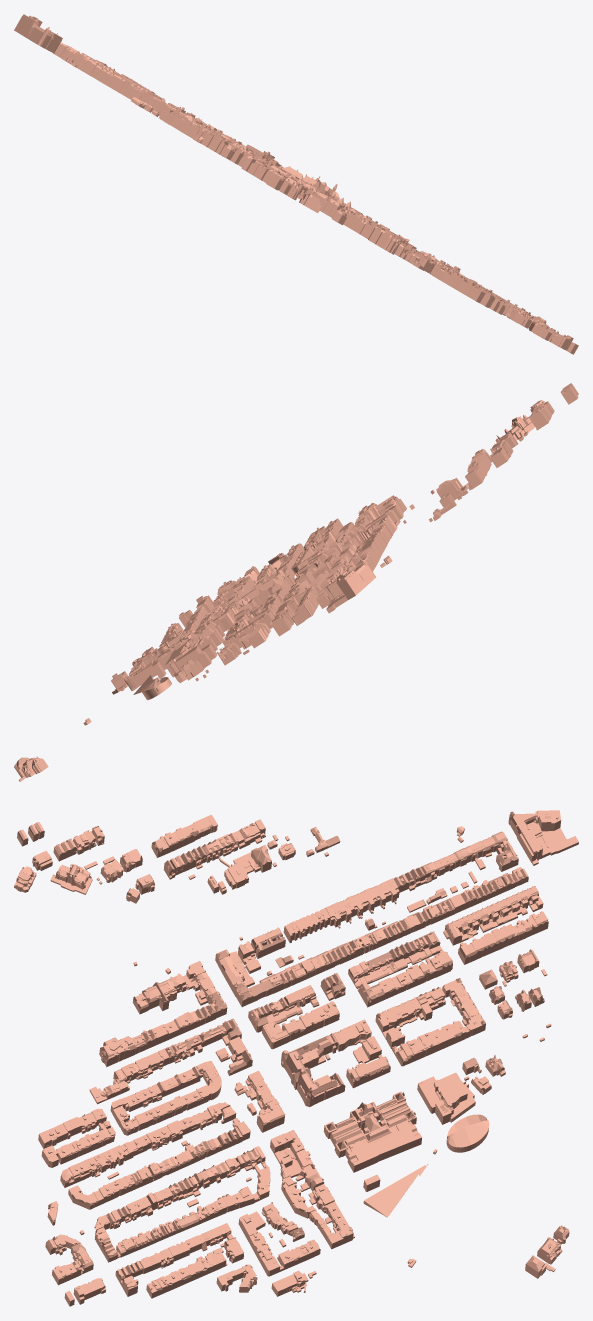
3 renders of one model, top to bottom at view 1: azimuth 30°, elevation 25°; view 2: azimuth 150°, elevation 25°; view 3: azimuth 270°, elevation 25°, orthographic. The views are drawn at different scales.
Bounding box in the file's own units: 1.77e+07 × 1.28e+07 × 2.13e+07.
